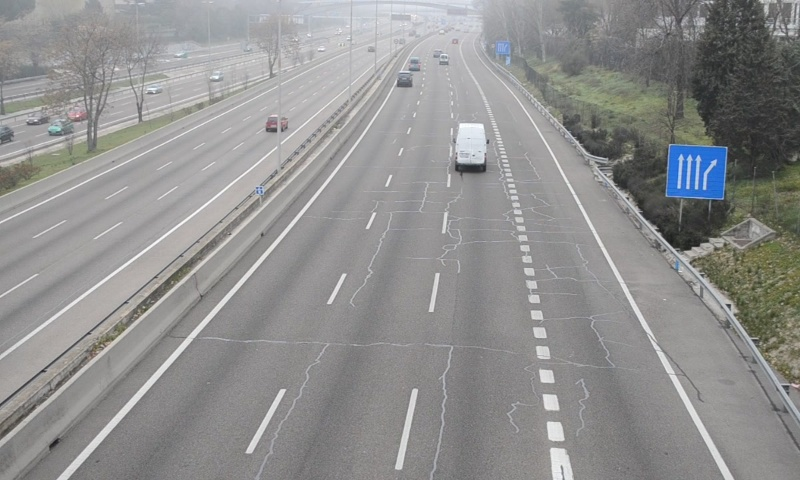car: (396, 70, 412, 86)
van: (452, 122, 488, 170)
